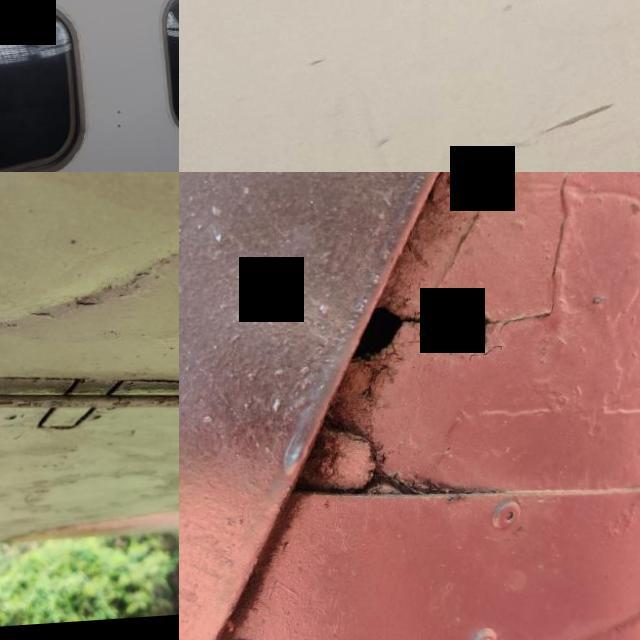Crack: (321, 285, 504, 390)
Dent: (0, 197, 179, 370)
